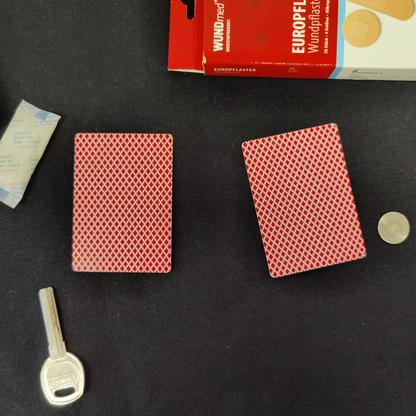card: (232, 116, 372, 285), (66, 127, 181, 284)
